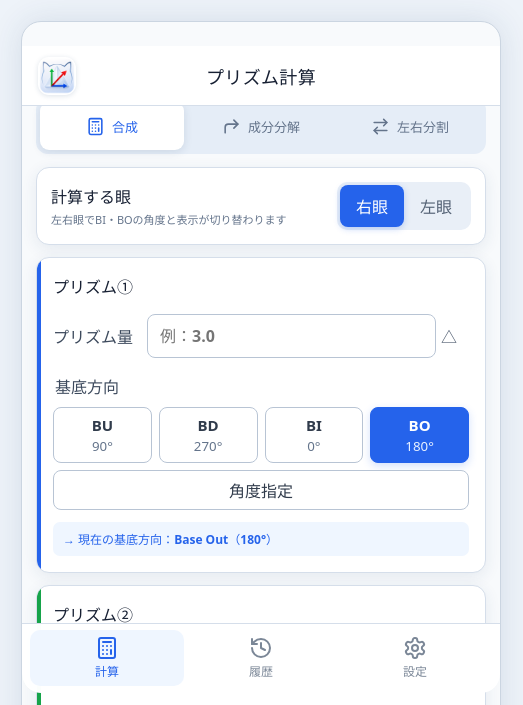
Test: CalculatorPage › 左右眼の選択でBO表示が反転する
The image size is (523, 705).
Expected: the text "180°" is shown, 405,437 -> 434,455
Click the button "左眼". click: (436, 206)
box: 404,185 -> 468,227
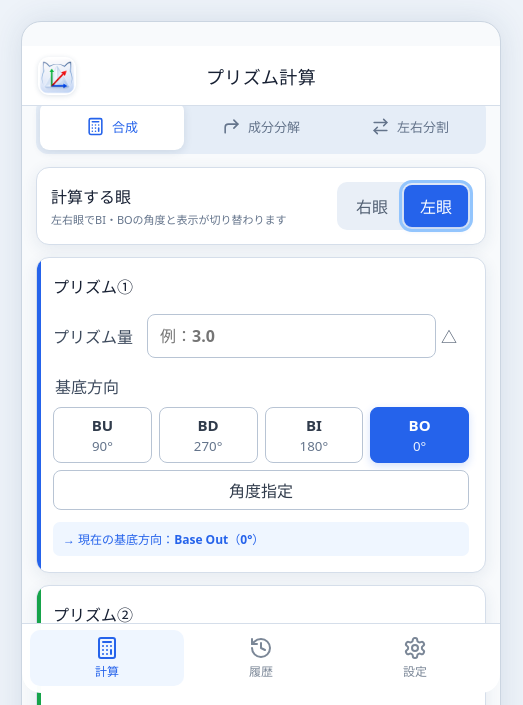
Expected: the text "0°" is shown, 413,437 -> 426,455
Now the text "→ 現在の基底方向：Base Out（0°）" is shown, box 53,522 -> 469,556
